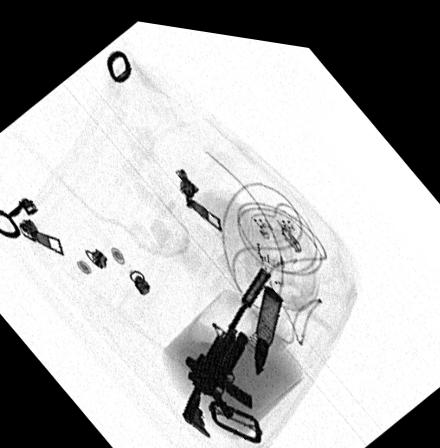Bullet: (253, 276, 283, 367)
Gun: (180, 257, 269, 430)
